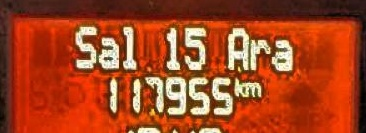1: (160, 21, 179, 73), (104, 74, 120, 116), (127, 74, 140, 116)
5: (182, 21, 207, 70), (210, 70, 232, 116), (188, 72, 208, 116)
7: (144, 72, 165, 113)
9: (164, 72, 185, 116)
X: (72, 20, 95, 71), (225, 25, 249, 70), (249, 35, 270, 71), (99, 32, 119, 69), (120, 22, 136, 68), (271, 36, 291, 71), (244, 77, 260, 96), (234, 74, 244, 97)
